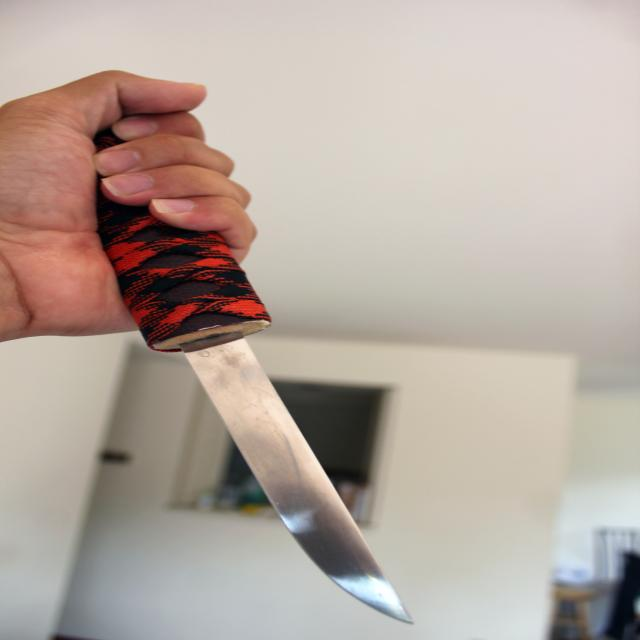knife: (89, 106, 423, 629)
